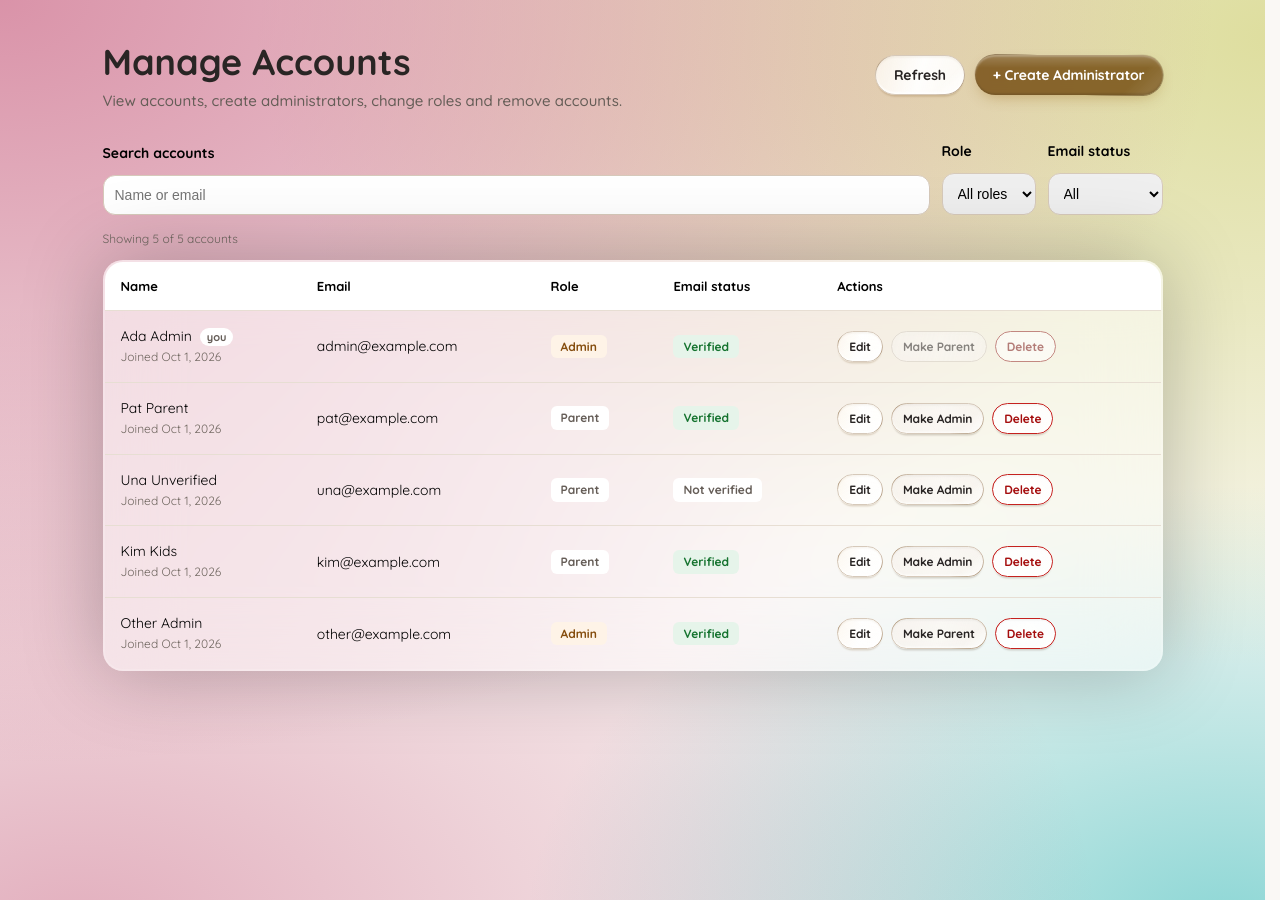
Test: Manage Accounts: search and filters › searches by name or email
This screenshot has width=1280, height=900.
Expected: the text "Pat Parent" is shown, [120,399,188,417]
In the search field labelled "Search accounts": coordinates (516, 195) [102,175,930,215], type "KIM@"
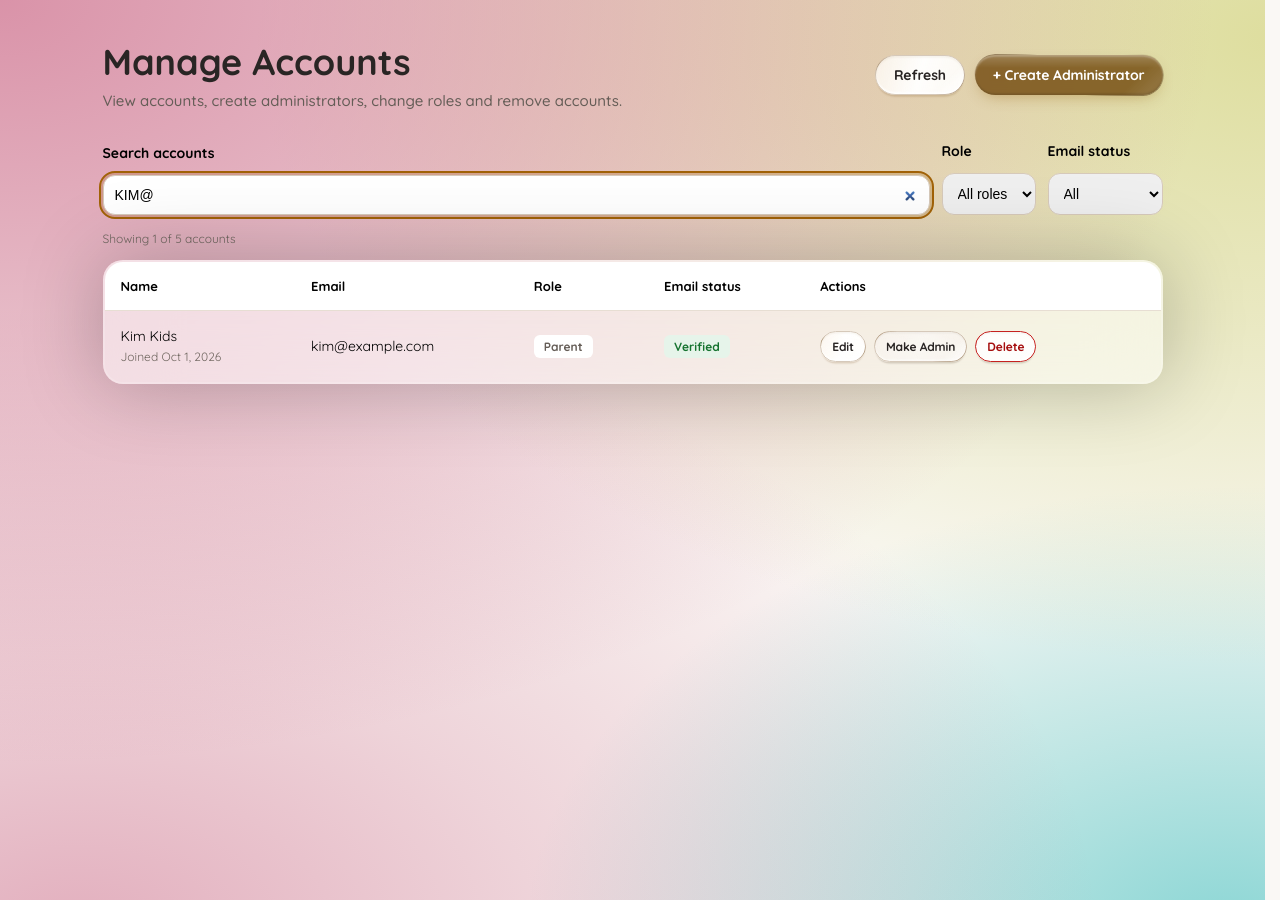
Expected: the text "Kim Kids" is shown, [120,327,177,345]
Expected: the text "Pat Parent" is gone
Expected: the message reads "Showing 1 of 5 accounts", [102,231,236,246]
